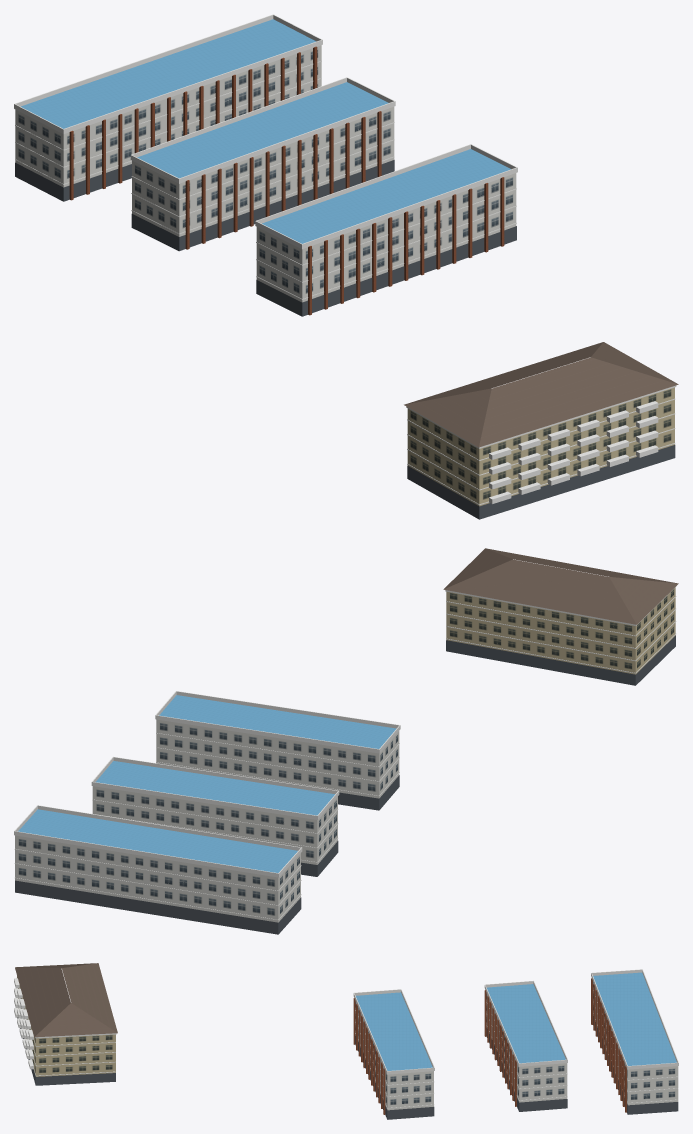
File: dorm_qinyuan_f3.glb
The picture shows the model from 3 angles, top to bottom: view 1: azimuth 30°, elevation 25°; view 2: azimuth 150°, elevation 25°; view 3: azimuth 270°, elevation 25°; orthographic projection. The views are drawn at different scales.
Parts seen in each view (by area): view 1: 1114843835, 862952694, 862952695, 862952696; view 2: 862952694, 1114843835, 862952696, 862952695; view 3: 1114843835, 862952694, 862952695, 862952696.
Part boxes in pixels (<box>): 1114843835: <box>404,342,678,519</box>; 862952694: <box>14,14,322,201</box>; 862952695: <box>130,77,395,251</box>; 862952696: <box>255,144,517,316</box>; 862952694: <box>14,805,302,934</box>; 1114843835: <box>443,548,678,685</box>; 862952696: <box>155,691,400,810</box>; 862952695: <box>91,756,339,876</box>; 1114843835: <box>14,963,117,1085</box>; 862952694: <box>591,969,678,1114</box>; 862952695: <box>484,980,567,1111</box>; 862952696: <box>353,989,434,1119</box>.
Bounding box in the file's own units: 72.64 × 20.09 × 189.
Materials: 5 (4 with a texture image).
